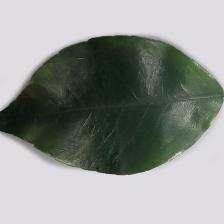healthy: (21, 48, 205, 167)
